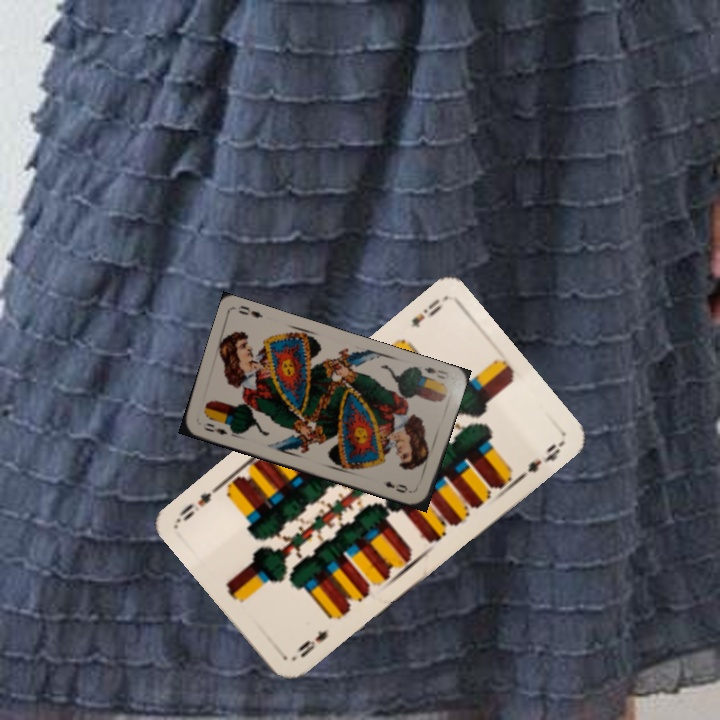E9: (406, 294, 445, 331), (292, 626, 331, 661)
EO: (420, 363, 452, 382), (200, 419, 230, 437)
